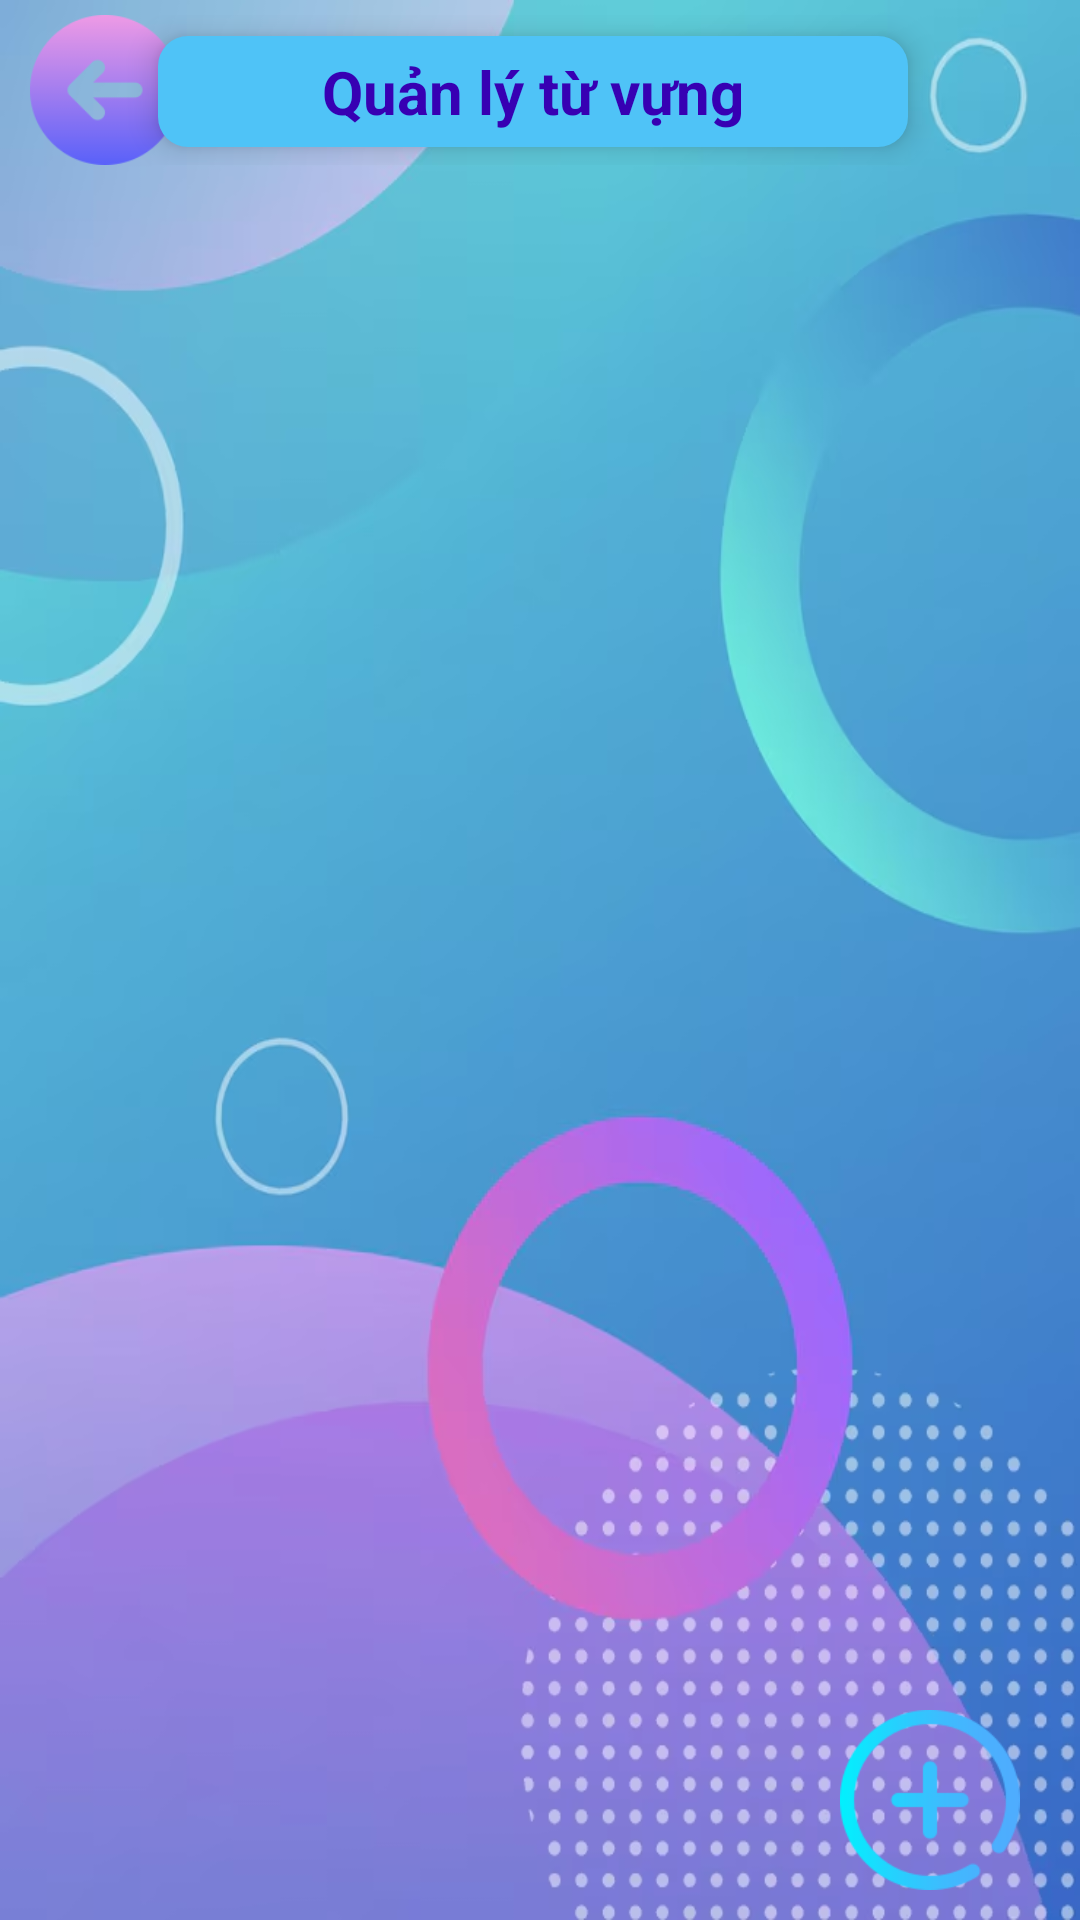

Where to tap for icons on this 1080 × 1920 app screen, as [x,y]:
add: [930,1800]
back: [105,90]
